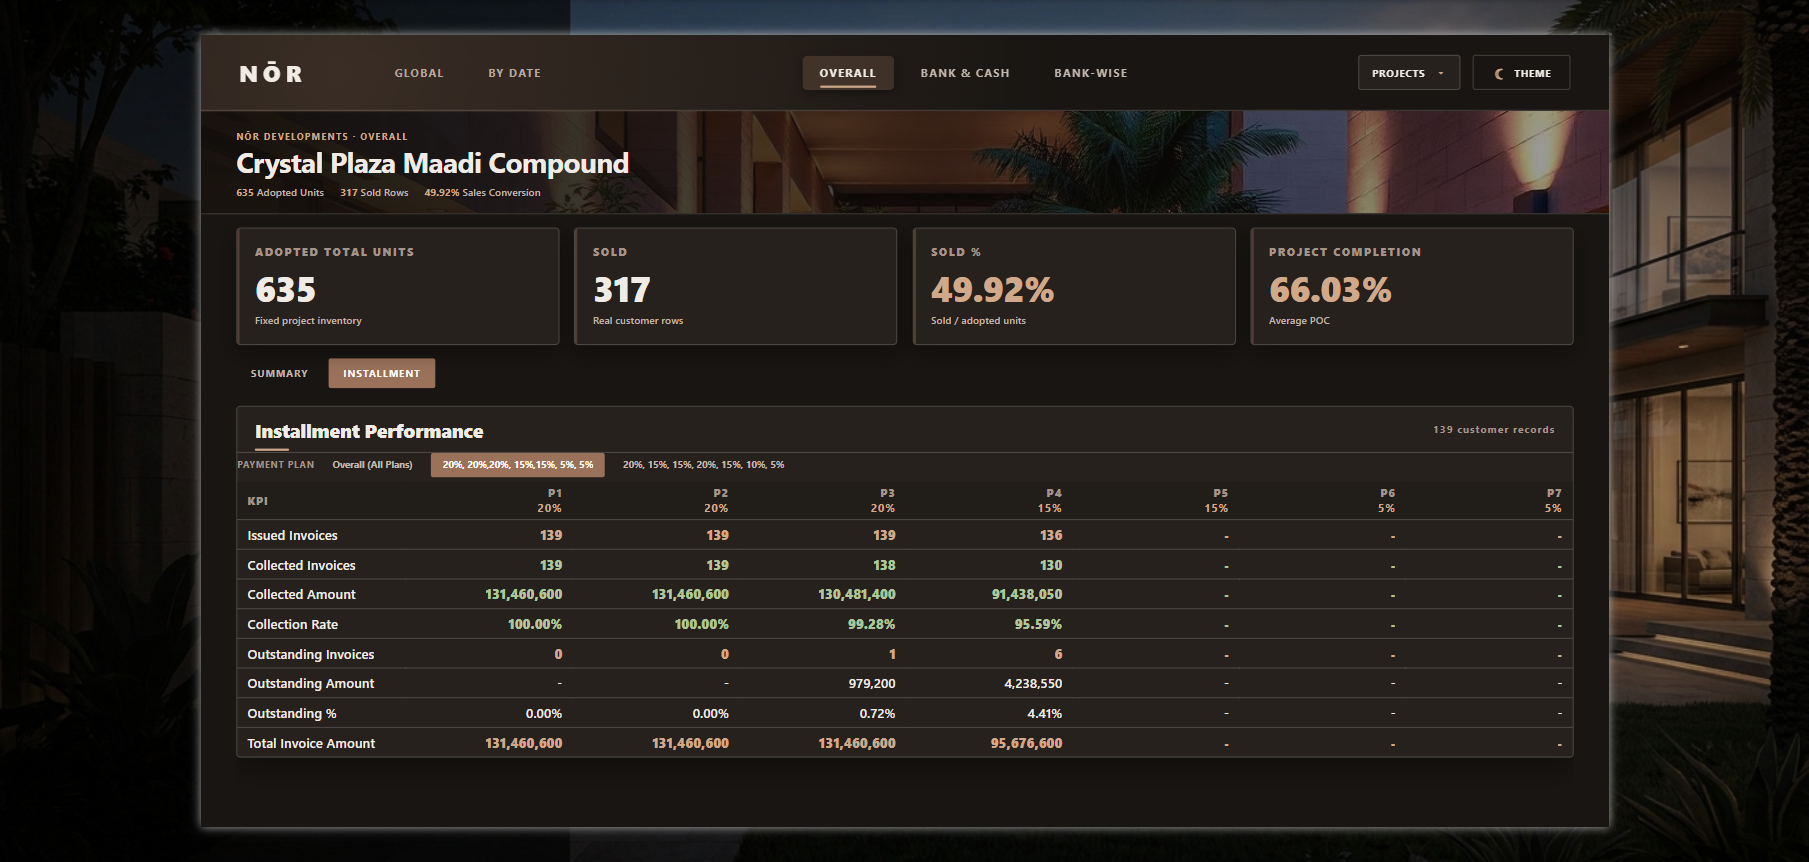

This screenshot's page, from the dashboard's own definition file:
{"tool":"powerbi","page":{"name":"Crystal Plaza Maadi","canvas":[1280,720],"ordinal":3},"visuals":[{"type":"htmlContent443BE3AD55E043BF878BED274D3A6855","fields":{"content":["HTML Visuals.HTML_CrystalPlaza_OnePage"]},"box":[0,0,1280,720],"z":0}]}

Visuals, with their boxes on the page's 1280x720 design canvas (x1, y1, x2, y2). These are canvas units, not pixel positions in the 1809x862 screenshot, which may show the page scaled, cropped or inside an application window:
htmlContent443BE3AD55E043BF878BED274D3A6855 - HTML Visuals.HTML_CrystalPlaza_OnePage: box(0, 0, 1280, 720)
